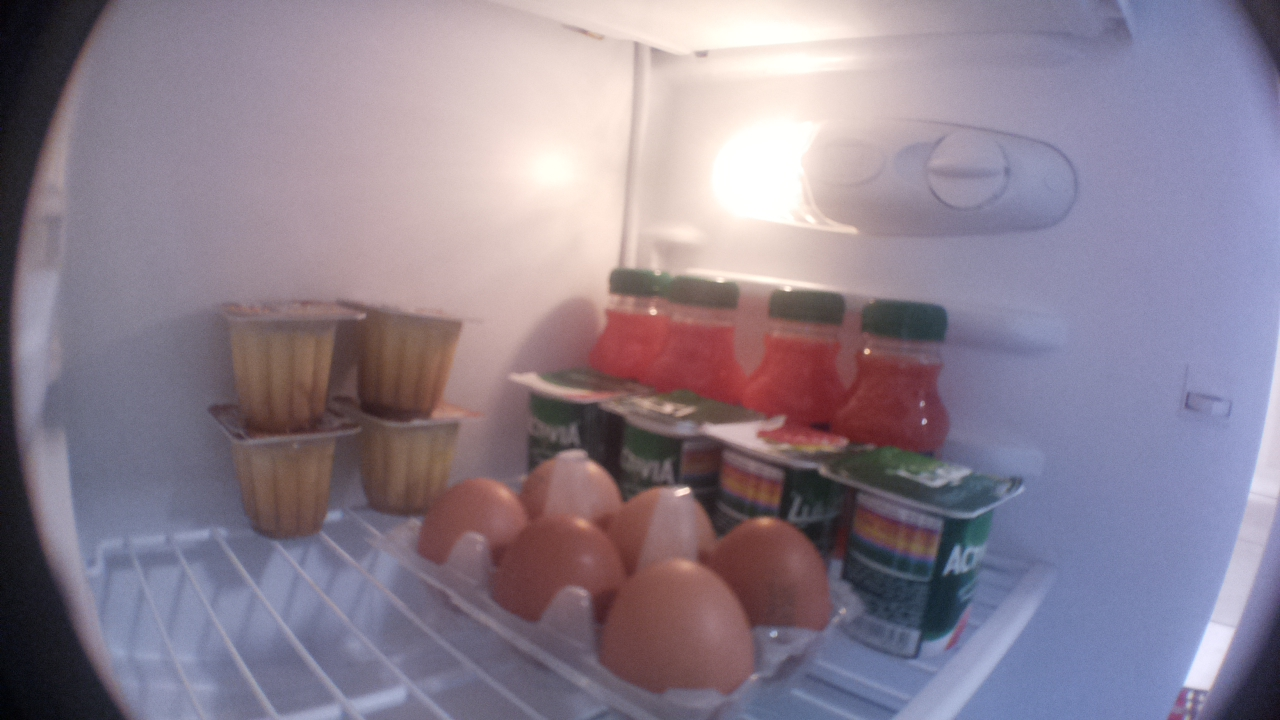caramel: (205, 404, 364, 542), (215, 294, 370, 426), (343, 296, 500, 417), (348, 394, 487, 518)
egg: (599, 561, 750, 720), (712, 517, 828, 648), (490, 513, 621, 622), (415, 474, 534, 571), (519, 446, 628, 524), (611, 484, 725, 552)
juice: (836, 292, 954, 449), (749, 275, 845, 417), (648, 267, 751, 393), (587, 255, 669, 374)
yoghurt: (826, 441, 1033, 659), (600, 374, 739, 486), (711, 419, 839, 518), (509, 360, 625, 457)
